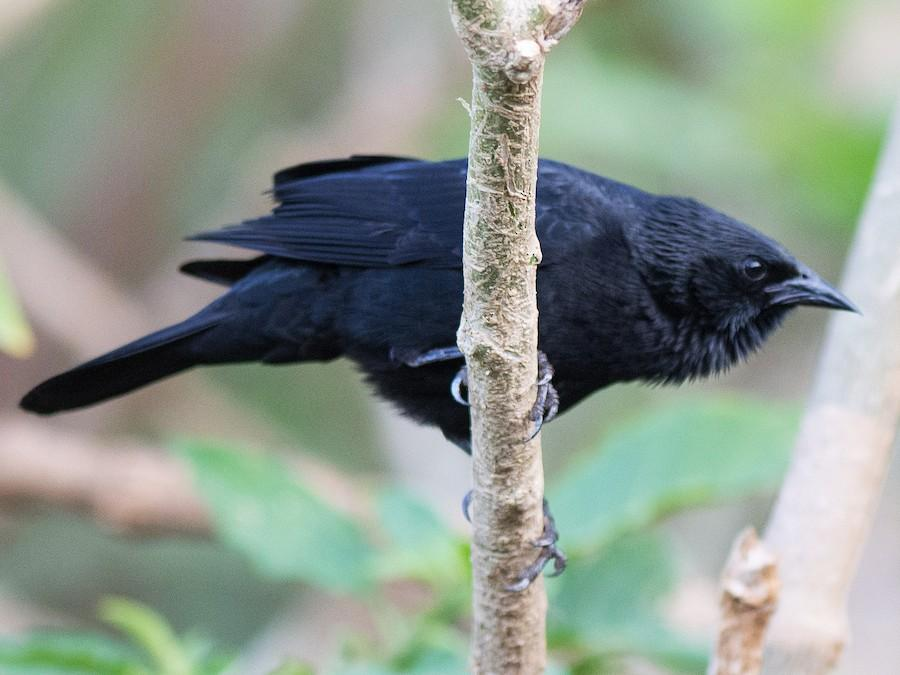grauna: (16, 144, 866, 595)
